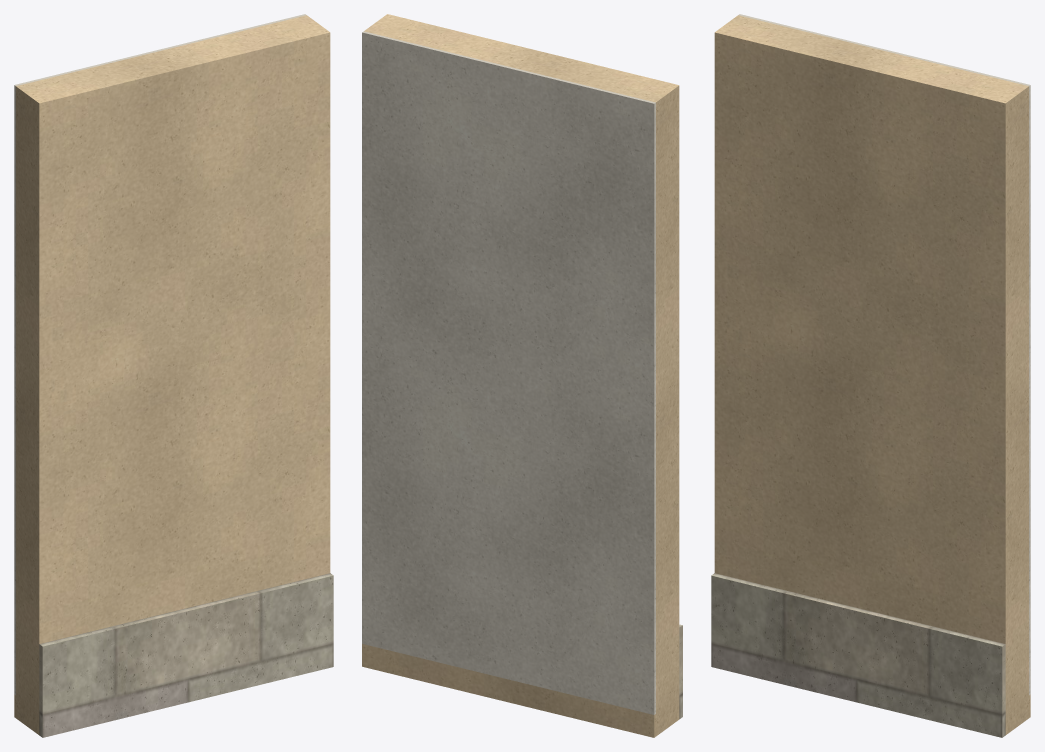
The model's file is wall_render_plain_ground.glb.
3 views of the same model, side by side, from view 1: azimuth 30°, elevation 25°; view 2: azimuth 150°, elevation 25°; view 3: azimuth 330°, elevation 25° (orthographic).
Visible parts, largest first — view 1: wall_render_plain_ground_render, wall_render_plain_ground_stone, wall_render_plain_ground_plaster; view 2: wall_render_plain_ground_plaster, wall_render_plain_ground_render; view 3: wall_render_plain_ground_render, wall_render_plain_ground_stone, wall_render_plain_ground_plaster.
Part boxes in pixels (<box>): wall_render_plain_ground_render: <box>14,15,330,734</box>; wall_render_plain_ground_stone: <box>39,573,333,737</box>; wall_render_plain_ground_plaster: <box>14,14,306,695</box>; wall_render_plain_ground_plaster: <box>362,31,655,714</box>; wall_render_plain_ground_render: <box>362,14,679,737</box>; wall_render_plain_ground_render: <box>714,15,1030,734</box>; wall_render_plain_ground_stone: <box>711,573,1005,737</box>; wall_render_plain_ground_plaster: <box>738,14,1030,695</box>.
Bounding box in the file's own units: 2 × 4.15 × 0.34.
3 materials, 3 textured.
